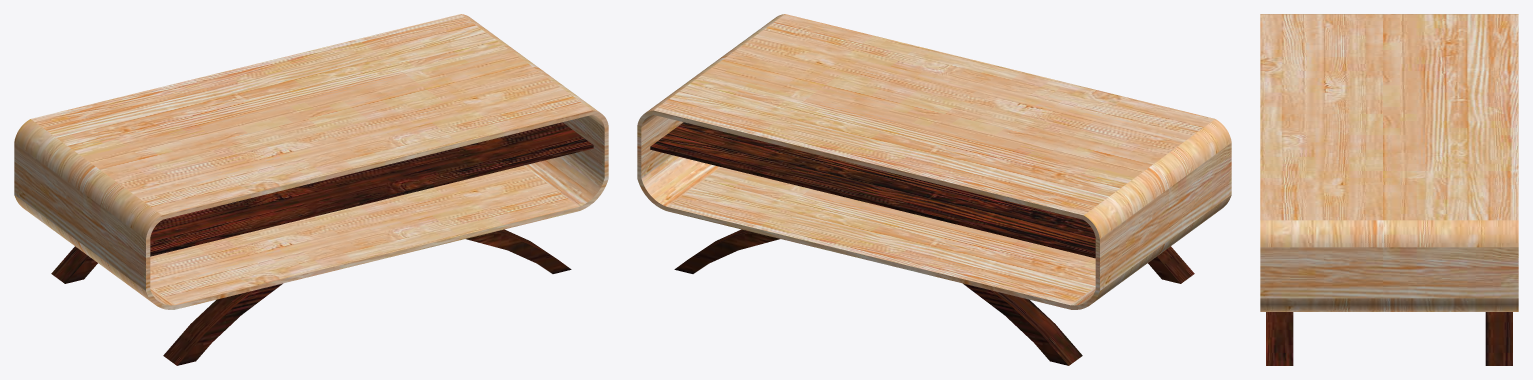
3 views of the same model, side by side, from view 1: azimuth 30°, elevation 25°; view 2: azimuth 150°, elevation 25°; view 3: azimuth 270°, elevation 25° (orthographic).
Parts seen in each view (by area): view 1: Material2, Material3; view 2: Material2, Material3; view 3: Material2, Material3.
Part boxes in pixels (x1,y1,x2,y2): Material2: (14,14,608,309); Material3: (51,122,593,365); Material2: (637,14,1231,309); Material3: (650,122,1194,365); Material2: (1260,14,1518,311); Material3: (1266,312,1512,365).
Size of the model in its own units: 58.27 by 18.9 by 28.74.
Materials: 4 (2 with a texture image).
